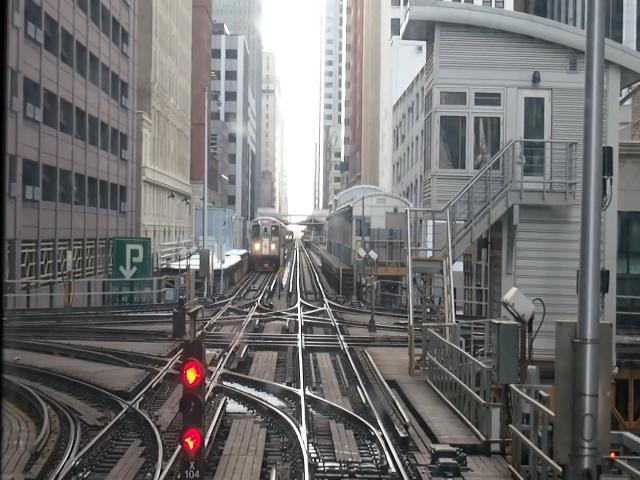signal light: (181, 340, 208, 480)
